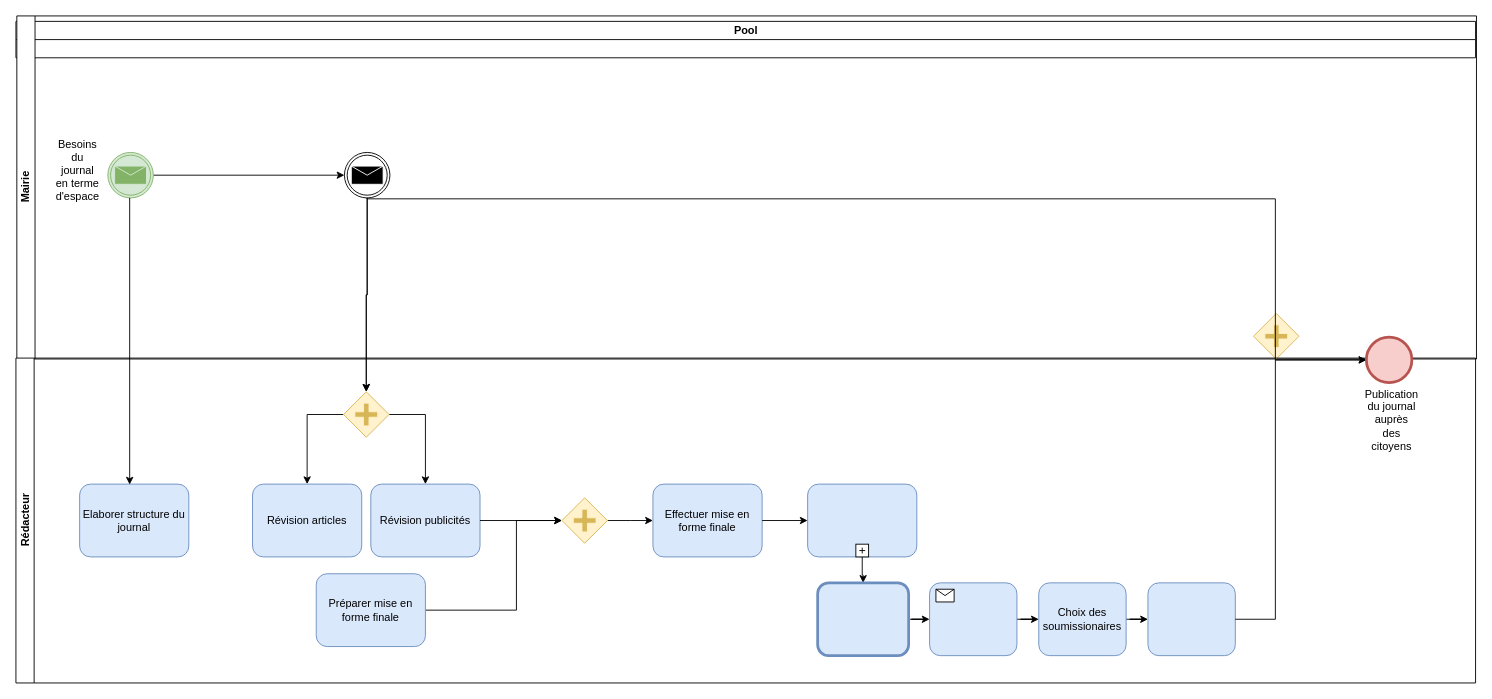
Image size: 1492x699. Some labels were removed from this diagram. The centre of each missing label's shape, as x and y in pixels:
Lancer l'appel d'offre d'impression: the point at 862,520
Production d'appel d'offre: the point at 863,619
Production du contrat de service: the point at 1191,619
Réception des soumissions: the point at 973,619
